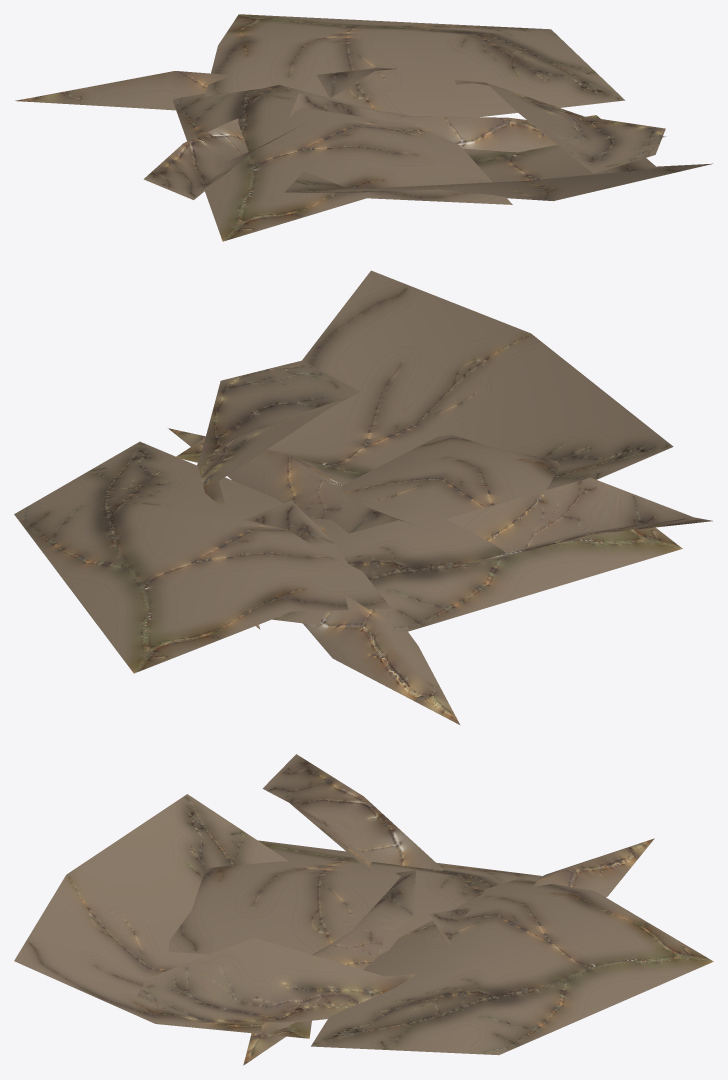
Rendered from branch_stack_1.FBX.
3 renders of one model, top to bottom at view 1: azimuth 30°, elevation 25°; view 2: azimuth 150°, elevation 25°; view 3: azimuth 270°, elevation 25°, orthographic. The views are drawn at different scales.
Parts seen in each view (by area): view 1: branch_stack_1; view 2: branch_stack_1; view 3: branch_stack_1.
Boxes of the visible parts, left/top/right/bottom form: branch_stack_1: left=15, top=14, right=712, bottom=241; branch_stack_1: left=14, top=270, right=712, bottom=724; branch_stack_1: left=14, top=754, right=713, bottom=1065.
Size of the model in its own units: 2.87 by 0.4707 by 3.34.
